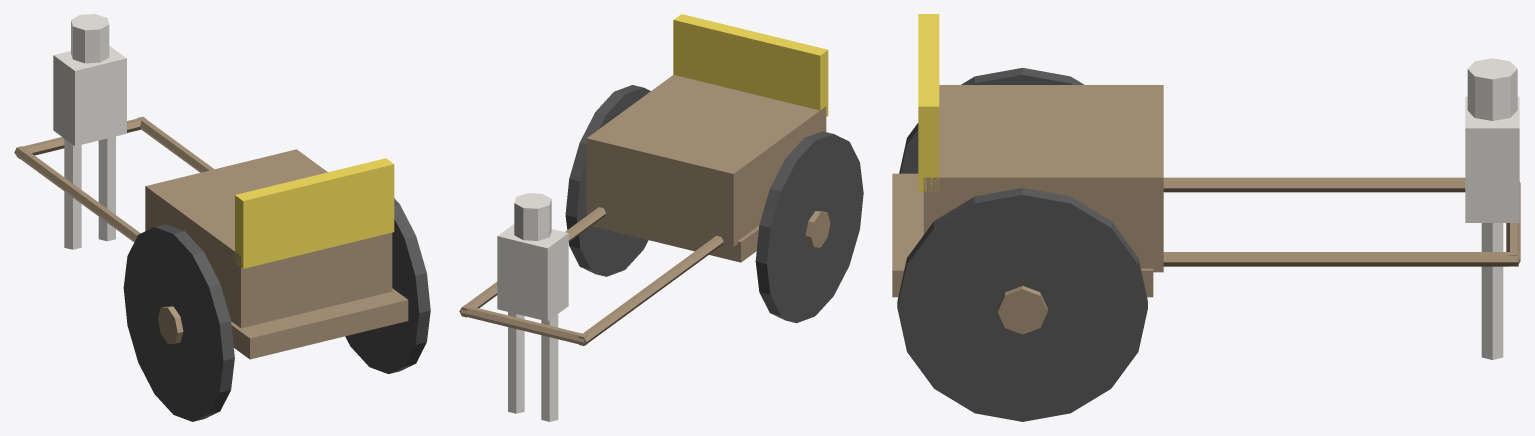
The model's file is hand_pulled_cart.glb.
3 views of the same model, side by side, from view 1: azimuth 30°, elevation 25°; view 2: azimuth 150°, elevation 25°; view 3: azimuth 270°, elevation 25° (orthographic). The views are drawn at different scales.
Visible parts, largest first — view 1: hand_pulled_cart; view 2: hand_pulled_cart; view 3: hand_pulled_cart.
Part boxes in pixels (bbox=[...]): hand_pulled_cart: bbox=[14, 14, 430, 421]; hand_pulled_cart: bbox=[459, 14, 863, 421]; hand_pulled_cart: bbox=[892, 14, 1520, 421].
Size of the model in its own units: 1.52 by 1.58 by 3.01.
